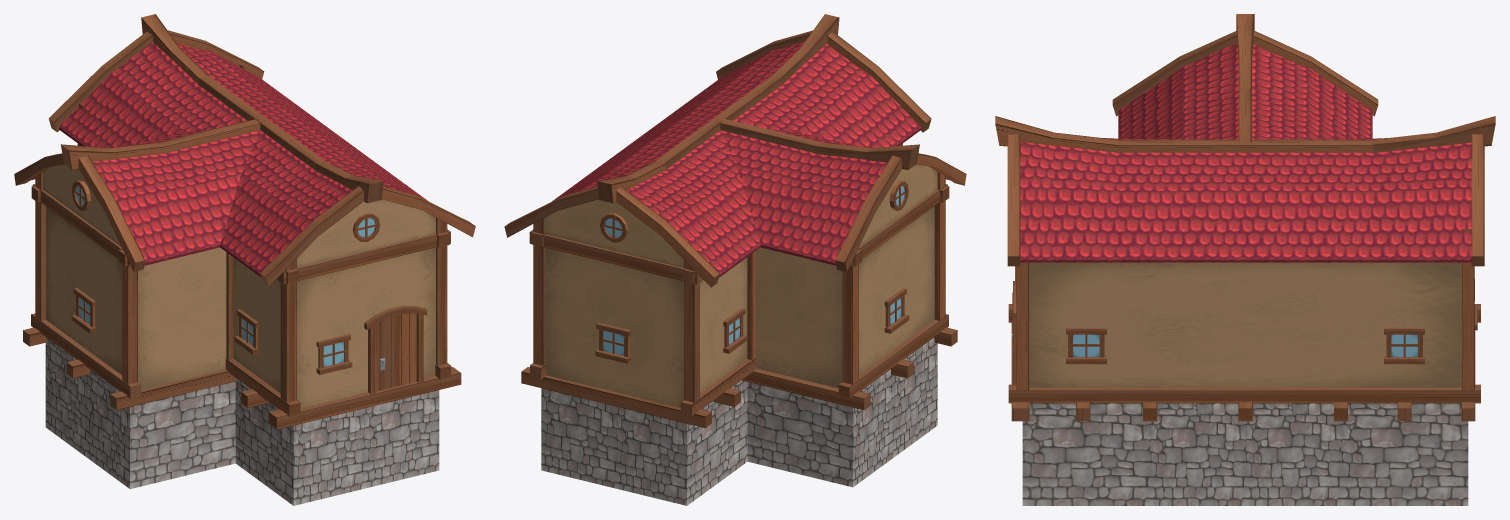
The model's file is house_town_red_1.glb.
The picture shows the model from 3 angles, left to right: view 1: azimuth 30°, elevation 25°; view 2: azimuth 150°, elevation 25°; view 3: azimuth 270°, elevation 25°; orthographic projection. The views are drawn at different scales.
Visible parts, largest first — view 1: house_town_red_1_; view 2: house_town_red_1_; view 3: house_town_red_1_.
Part boxes in pixels (box(x1,y1,x2,y2)): house_town_red_1_: box(14, 14, 475, 505); house_town_red_1_: box(504, 14, 966, 505); house_town_red_1_: box(995, 14, 1495, 505).
Size of the model in its own units: 12.04 by 11.99 by 15.73.
Materials: 1 (1 with a texture image).
